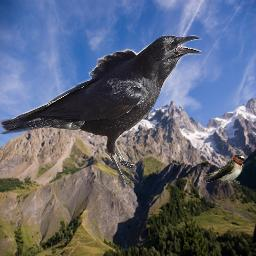Crow: (0, 34, 202, 192)
Swallow: (204, 153, 246, 184)
